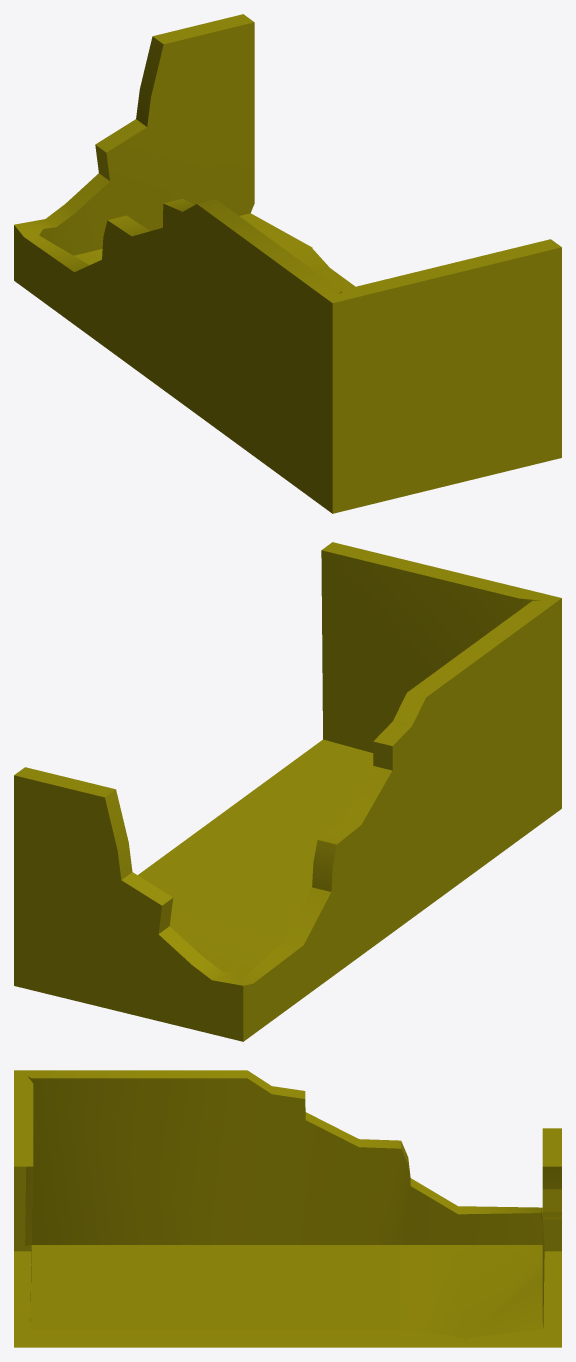
Rendered from SM_Balcon_destroyed.fbx.
3 renders of one model, top to bottom at view 1: azimuth 30°, elevation 25°; view 2: azimuth 150°, elevation 25°; view 3: azimuth 270°, elevation 25°, orthographic. The views are drawn at different scales.
Parts seen in each view (by area): view 1: Balcon_destroyed; view 2: Balcon_destroyed; view 3: Balcon_destroyed.
Part boxes in pixels (left/top/right/bottom): Balcon_destroyed: left=14, top=14, right=561, bottom=513; Balcon_destroyed: left=14, top=542, right=561, bottom=1041; Balcon_destroyed: left=14, top=1070, right=561, bottom=1347.
Size of the model in its own units: 67.07 by 55.53 by 152.
